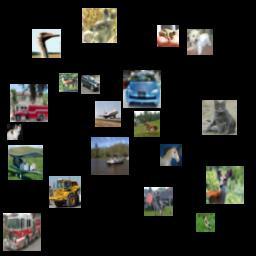airplane: (8, 145, 43, 180), (95, 101, 121, 127)
automobile: (123, 70, 161, 108), (81, 75, 100, 94)
bird: (32, 29, 61, 58), (196, 213, 215, 232)
cat: (202, 100, 237, 135), (7, 124, 23, 140)
deer: (206, 166, 244, 204), (82, 8, 117, 43), (134, 111, 160, 137), (59, 73, 78, 92)
dog: (187, 29, 213, 55)
frog: (157, 25, 179, 47)
ship: (91, 137, 129, 175)
truck: (3, 213, 41, 251), (10, 84, 48, 122), (49, 176, 81, 208)
